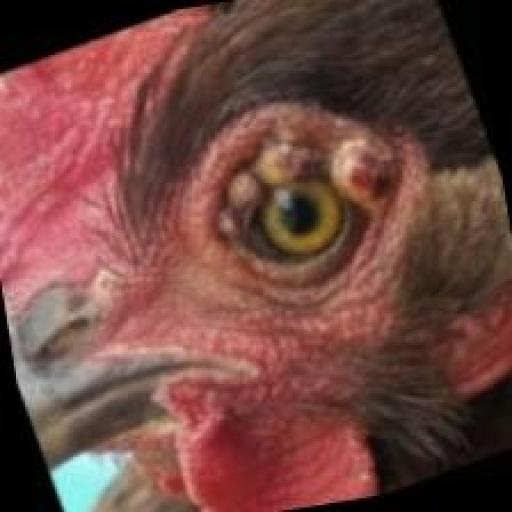disease: (166, 135, 423, 288)
